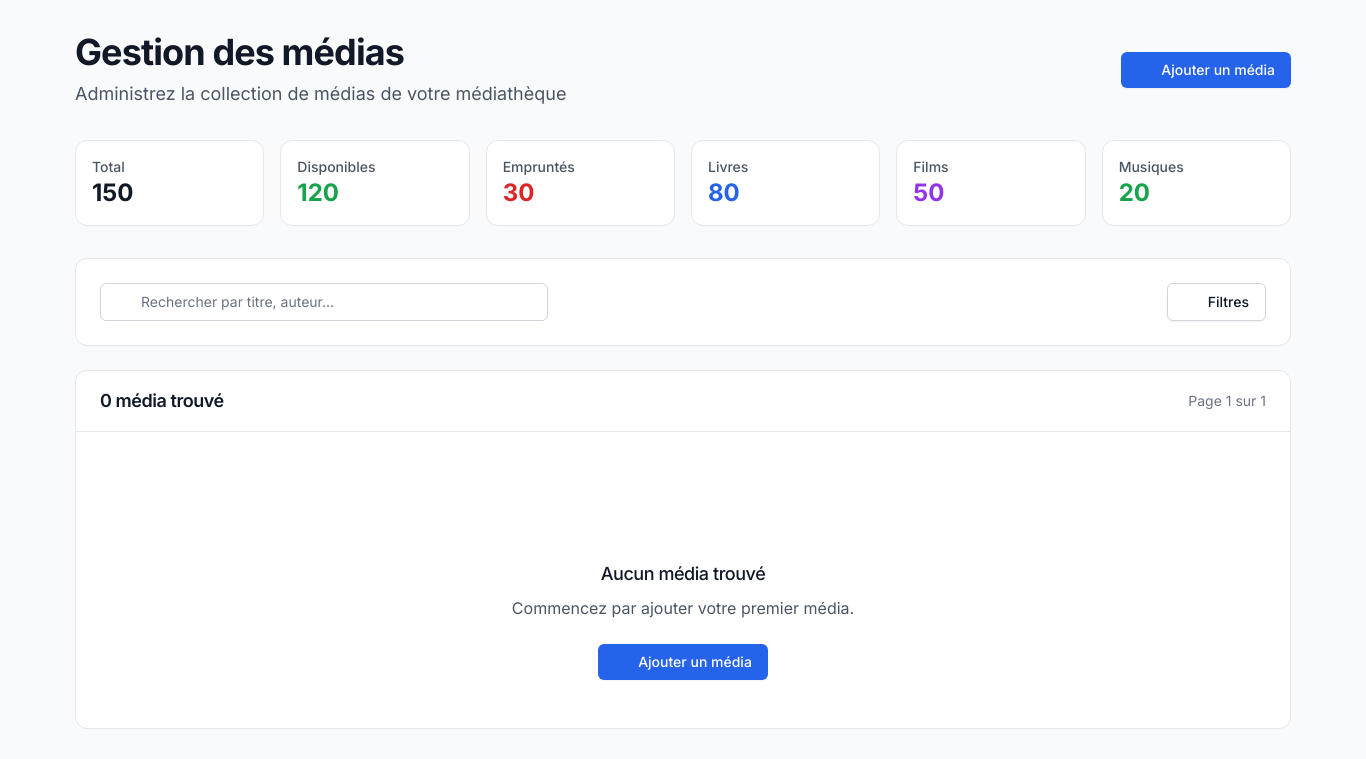
Scenario: AdminMediaPage › Gestion des cas d'absence de données › permet d'effacer les filtres depuis l'état vide
The width and height of the screenshot is (1366, 759).
Click the button with test id "filter-button": click(1216, 302) x1=1167 y1=283 x2=1266 y2=321
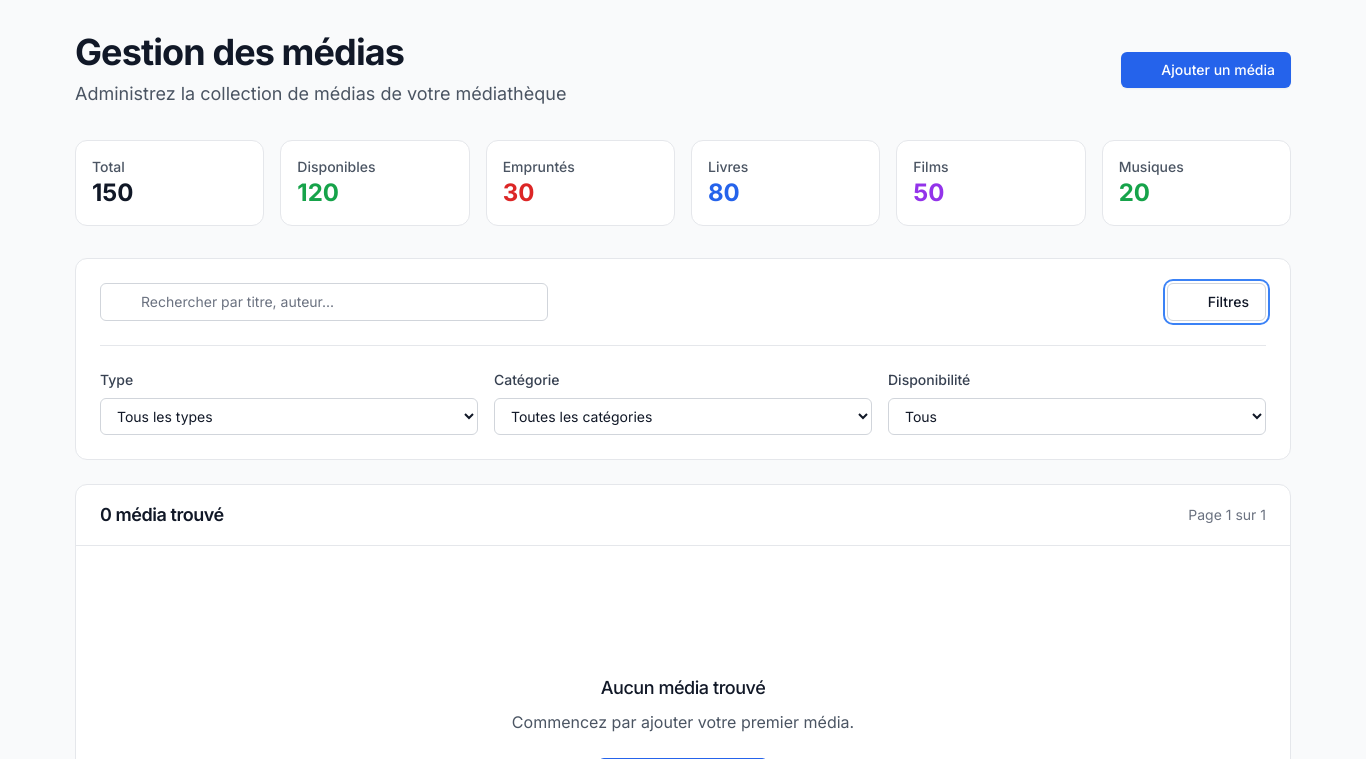
Select "Livre" in the dropdown with test id "type-filter": (289, 416) x1=100 y1=398 x2=478 y2=435
(page scrolled)
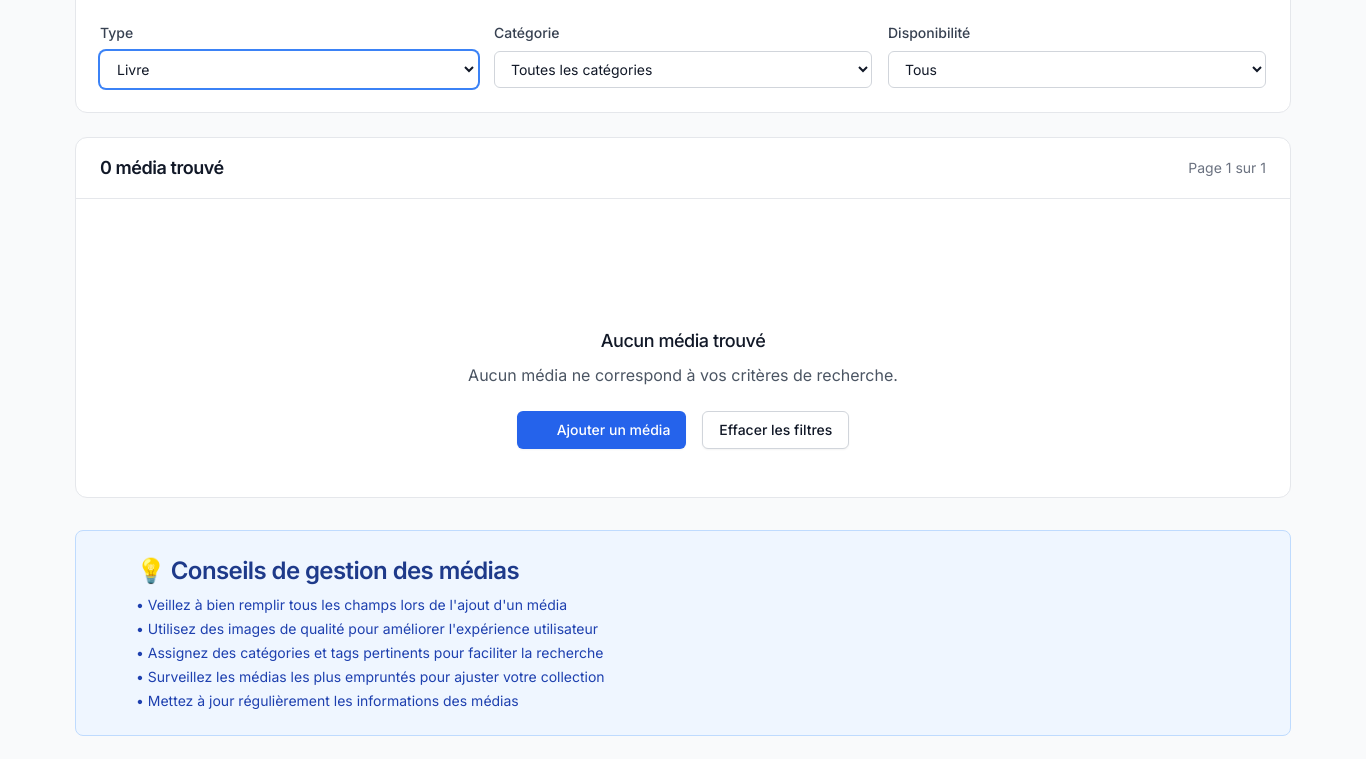
Click the button with test id "clear-filters-empty": click(776, 430) x1=702 y1=411 x2=849 y2=449
(page scrolled)
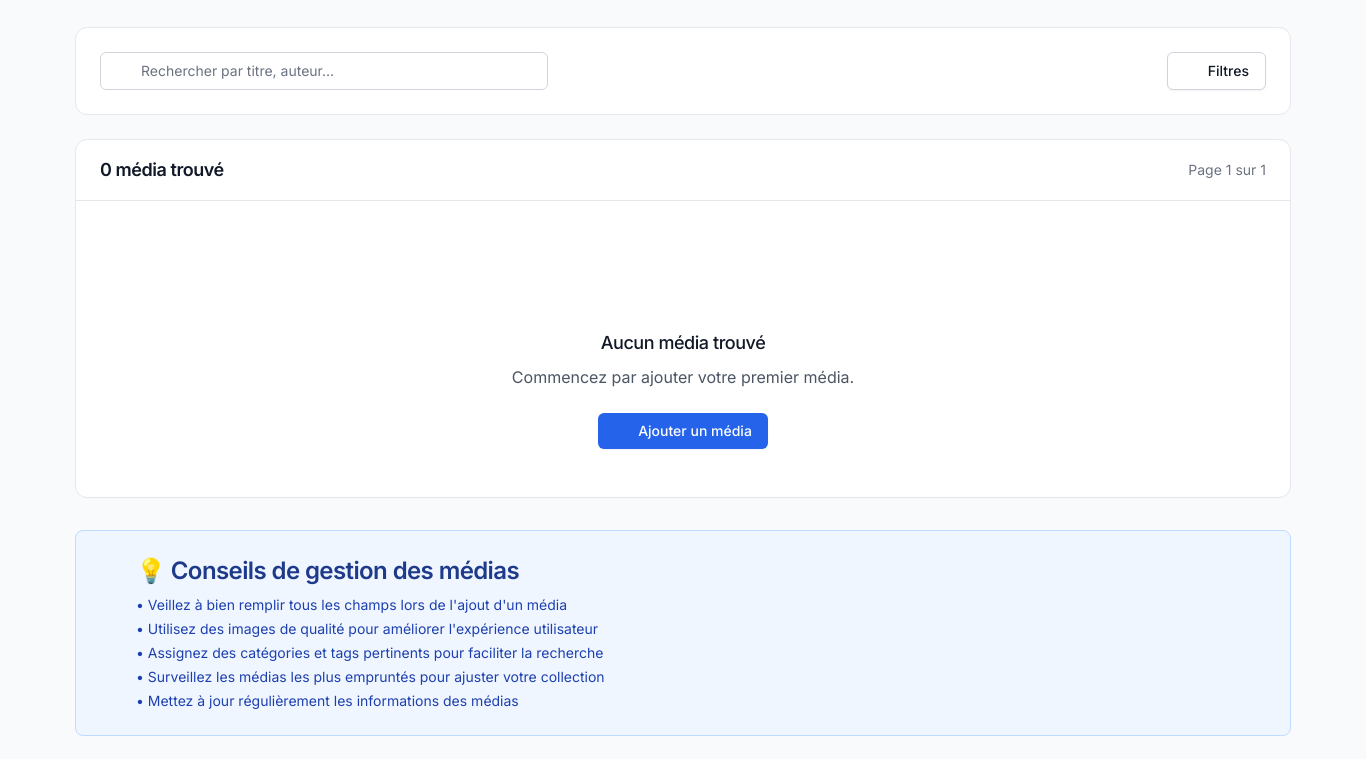
expect the dropdown with test id "type-filter" is gone: met
expect the button with test id "clear-filters-empty" is gone: met
